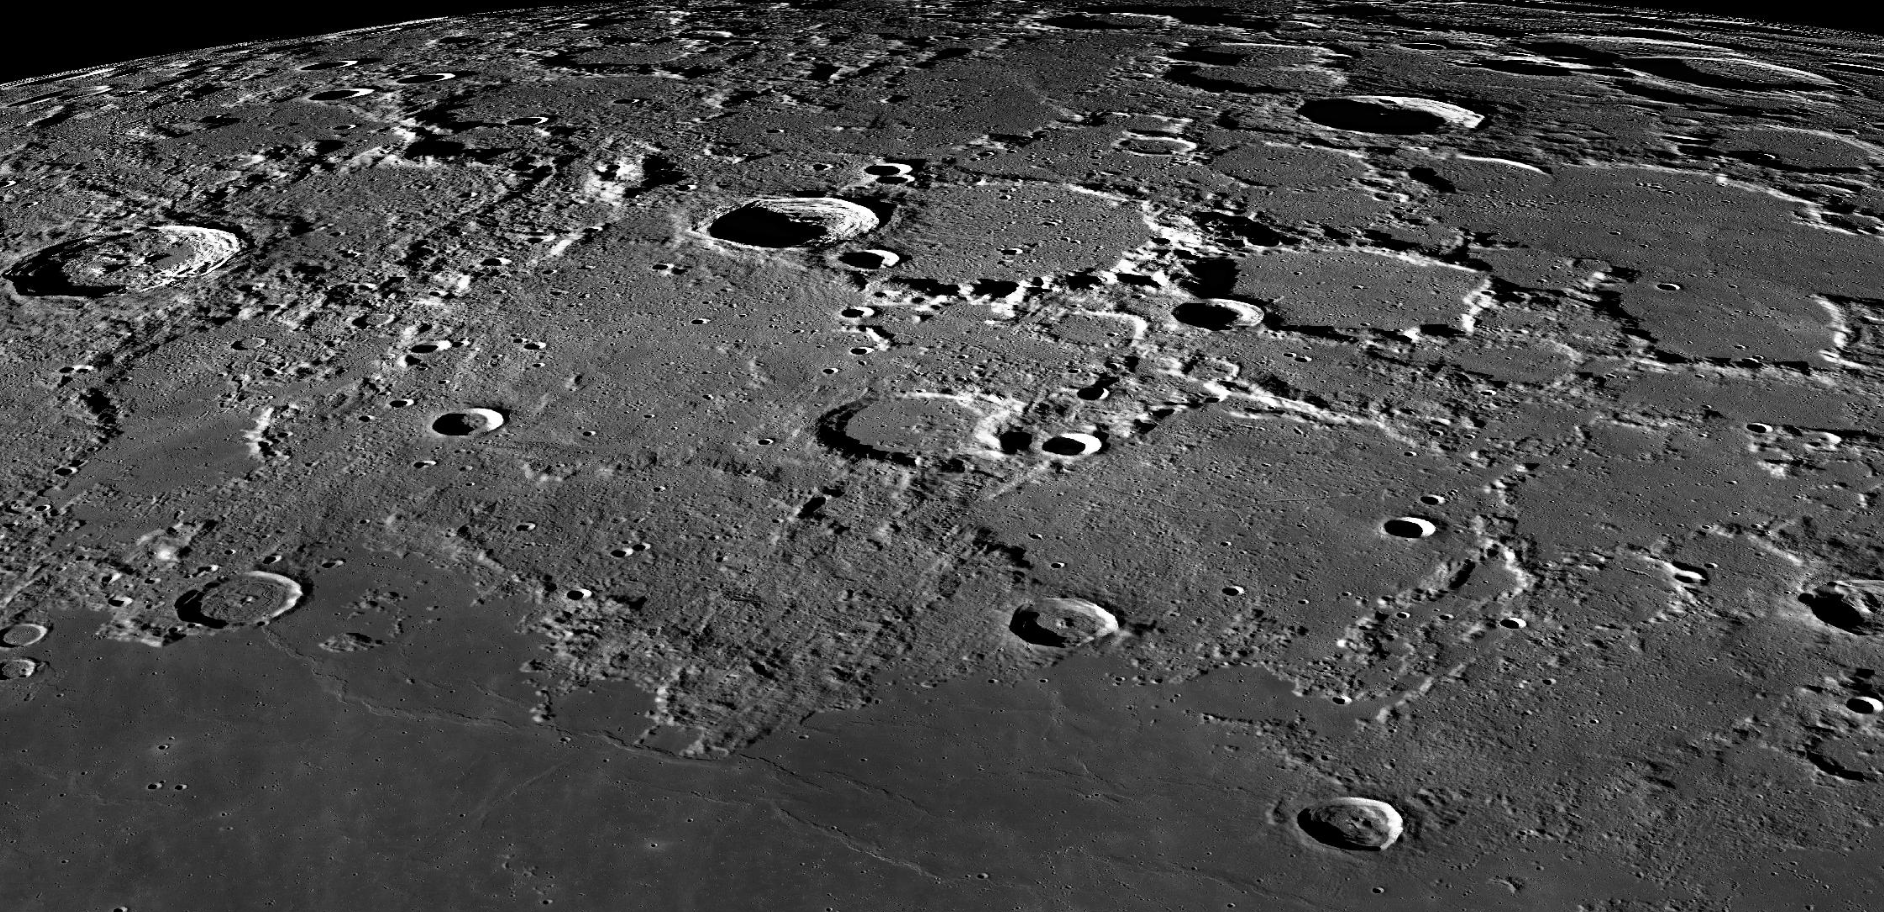crater: (1, 195, 275, 333), (676, 169, 923, 287), (805, 366, 1038, 488), (142, 529, 339, 648), (1257, 66, 1506, 151), (974, 584, 1143, 685), (1280, 763, 1429, 874), (1349, 499, 1457, 565), (421, 395, 533, 448), (1646, 252, 1721, 317), (163, 769, 209, 800)
